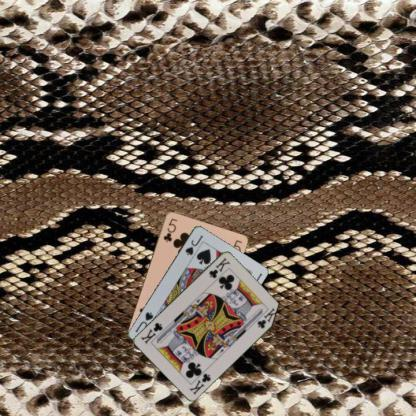5c: (160, 216, 178, 243)
Js: (182, 232, 204, 257)
Kc: (206, 255, 231, 280), (187, 370, 212, 395)
